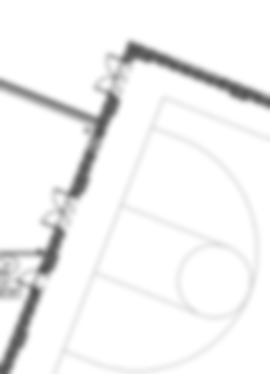door: (16, 266, 42, 290)
double door: (39, 185, 70, 231), (92, 51, 123, 96)
wall: (1, 83, 99, 133)
window: (170, 53, 226, 92)
